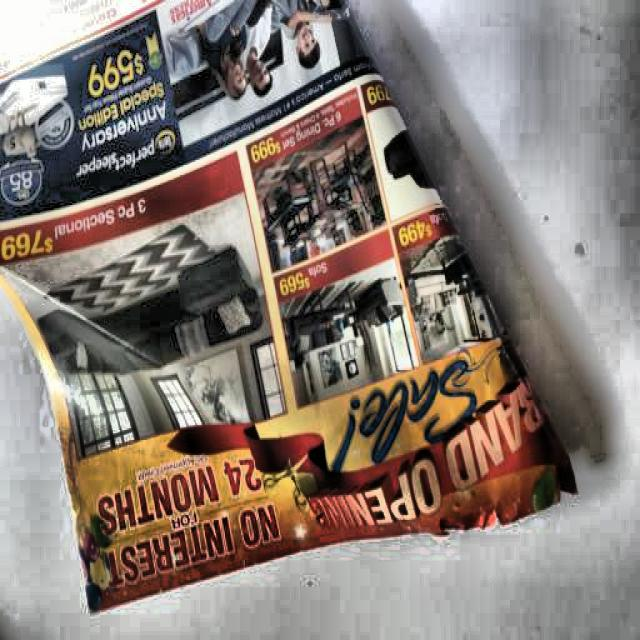paper: (0, 0, 581, 622)
